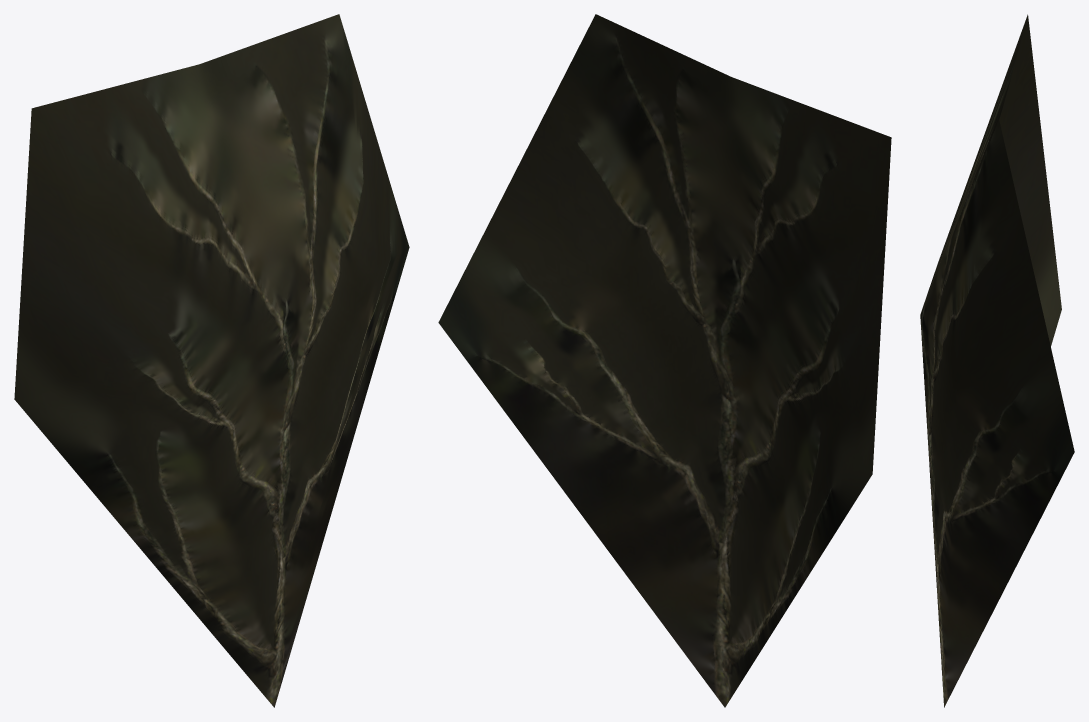
Rendered from OldBrench_01_Mesh.fbx.
3 views of the same model, side by side, from view 1: azimuth 30°, elevation 25°; view 2: azimuth 150°, elevation 25°; view 3: azimuth 270°, elevation 25° (orthographic). The views are drawn at different scales.
Visible parts, largest first — view 1: oldbrench_01; view 2: oldbrench_01; view 3: oldbrench_01.
Boxes of the visible parts, <box> form: oldbrench_01: <box>14,14,409,707</box>; oldbrench_01: <box>438,14,891,707</box>; oldbrench_01: <box>920,14,1074,707</box>.
Bounding box in the file's own units: 1.46 × 2.26 × 0.5017.
